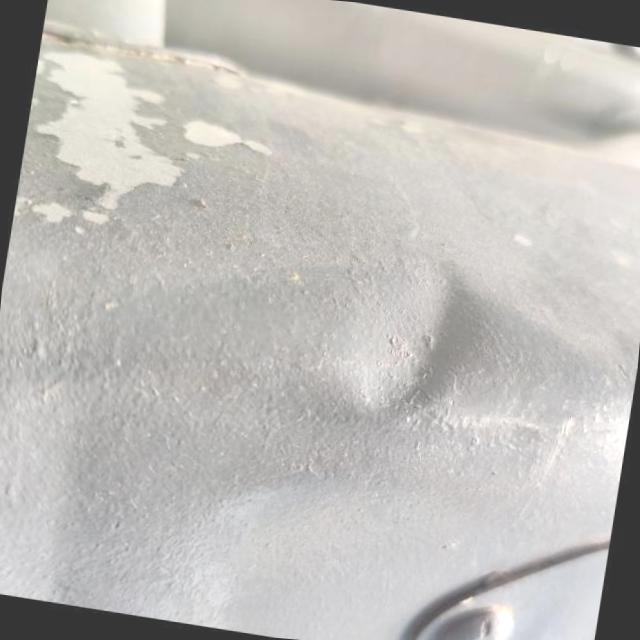dent: (306, 240, 458, 430)
